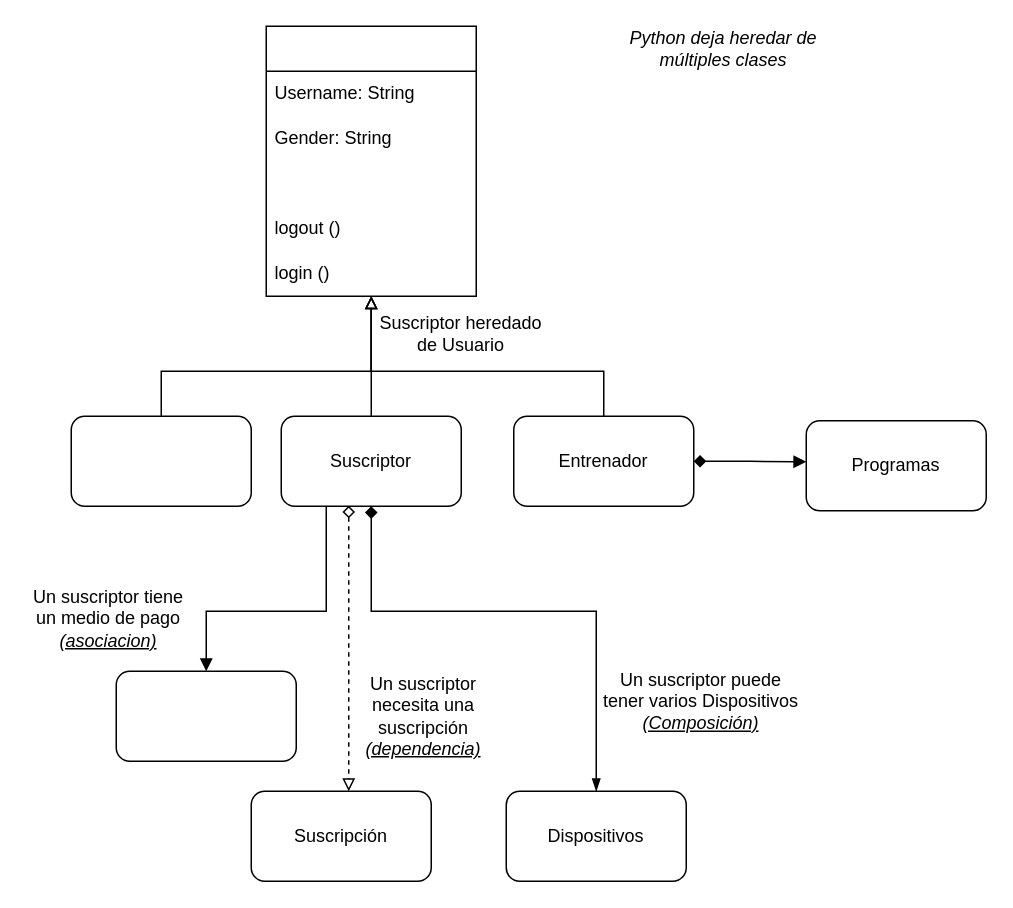
Image size: 1013x908. Some labels were removed from this diagram. Here are the shapes that lost their labels. From the top down, the box of each, then its label:
(265, 25, 476, 296): Usuario
(70, 415, 251, 506): Admin
(115, 670, 296, 761): Medio de pago
